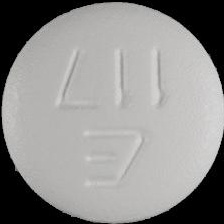51079-929: (0, 0, 224, 224)
